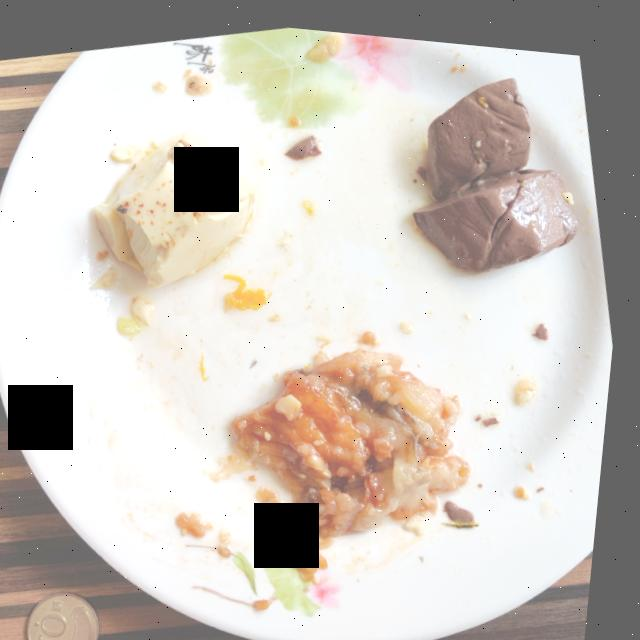Kabayaki sea bream fillet: (239, 340, 479, 529)
coin: (38, 590, 110, 640)
pig blood curd: (415, 67, 580, 264)
